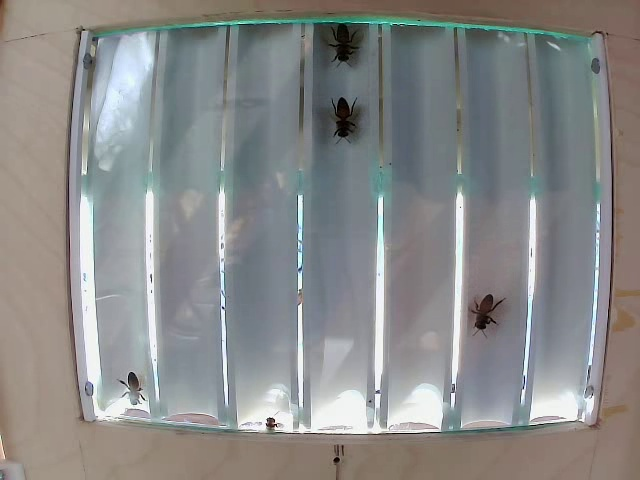bee: (319, 19, 364, 72), (469, 295, 506, 343), (328, 98, 363, 148)
